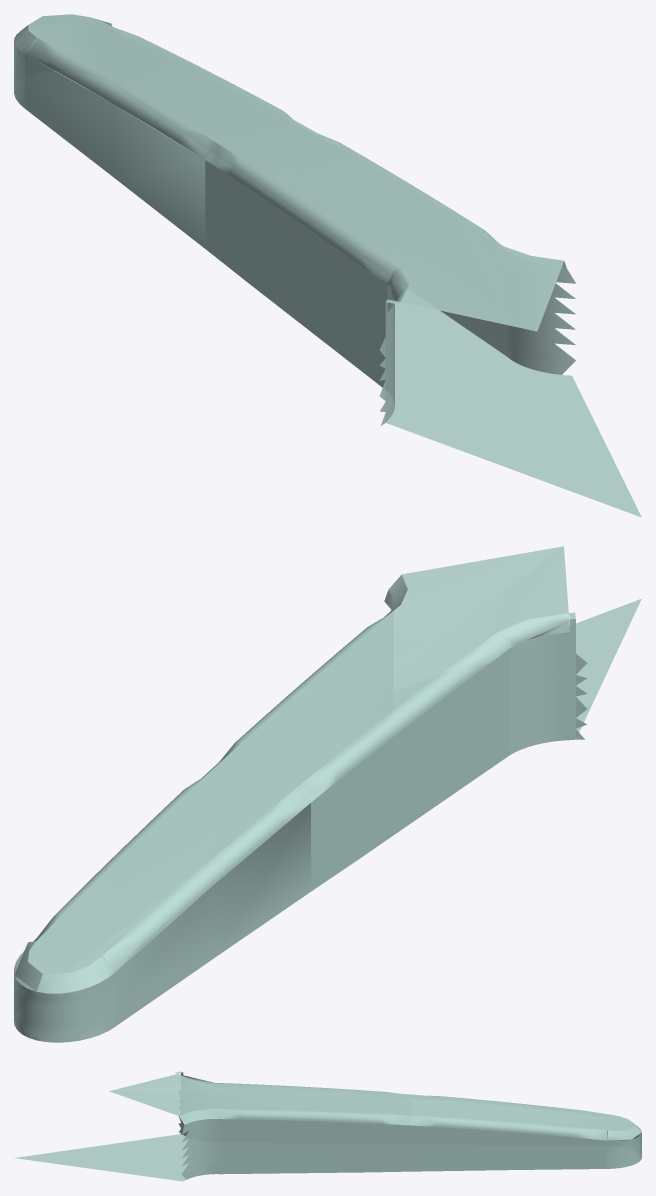
3 views of the same model, one above another, from view 1: azimuth 30°, elevation 25°; view 2: azimuth 150°, elevation 25°; view 3: azimuth 270°, elevation 25° (orthographic). The views are drawn at different scales.
Bounding box in the file's own units: 0.1164 × 0.0681 × 0.6103.
